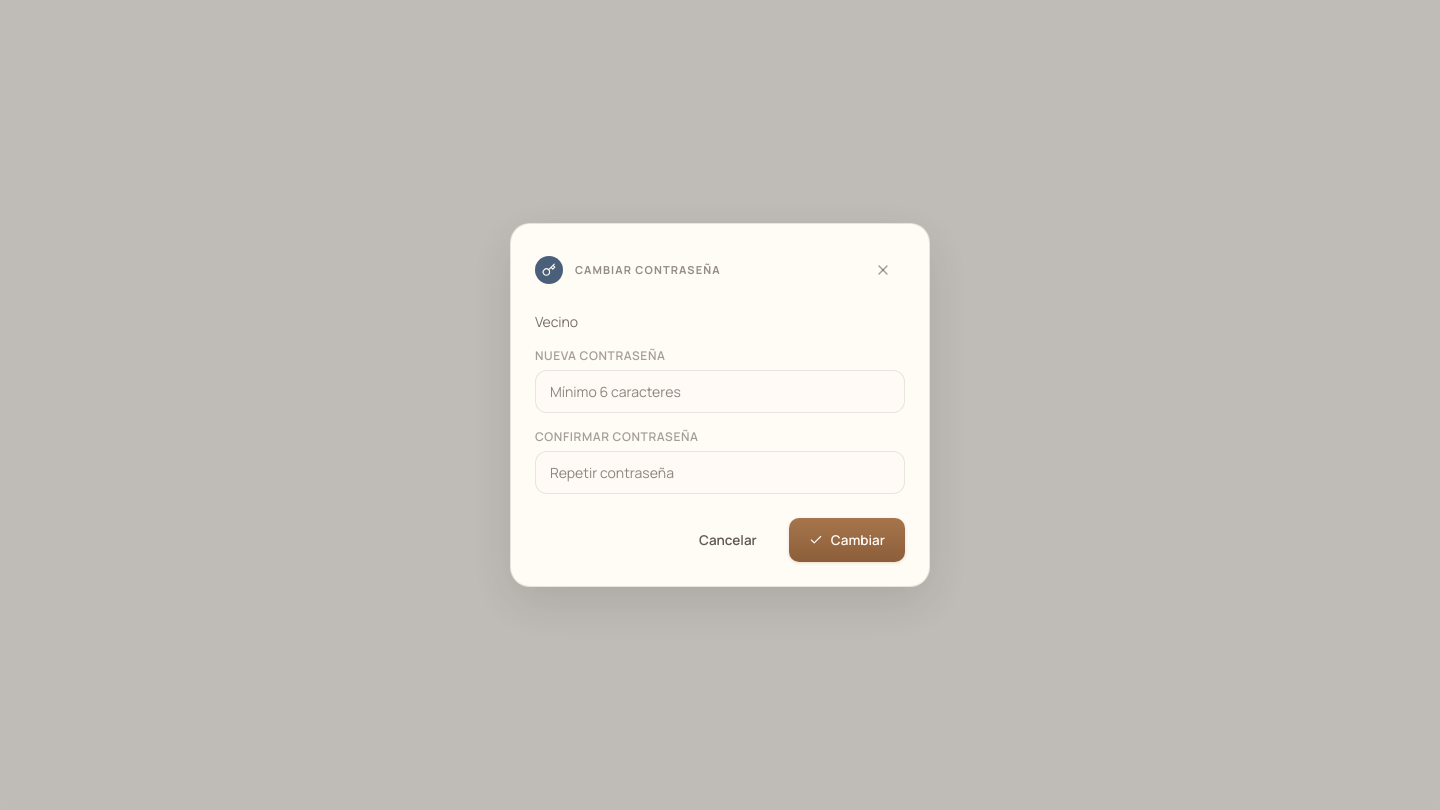
Test: ChangePasswordModal › shows API error
The width and height of the screenshot is (1440, 810).
Type "abcdef1" into the password field with placeholder "Mínimo 6 caracteres". click: (720, 392)
box: [535,370,905,413]
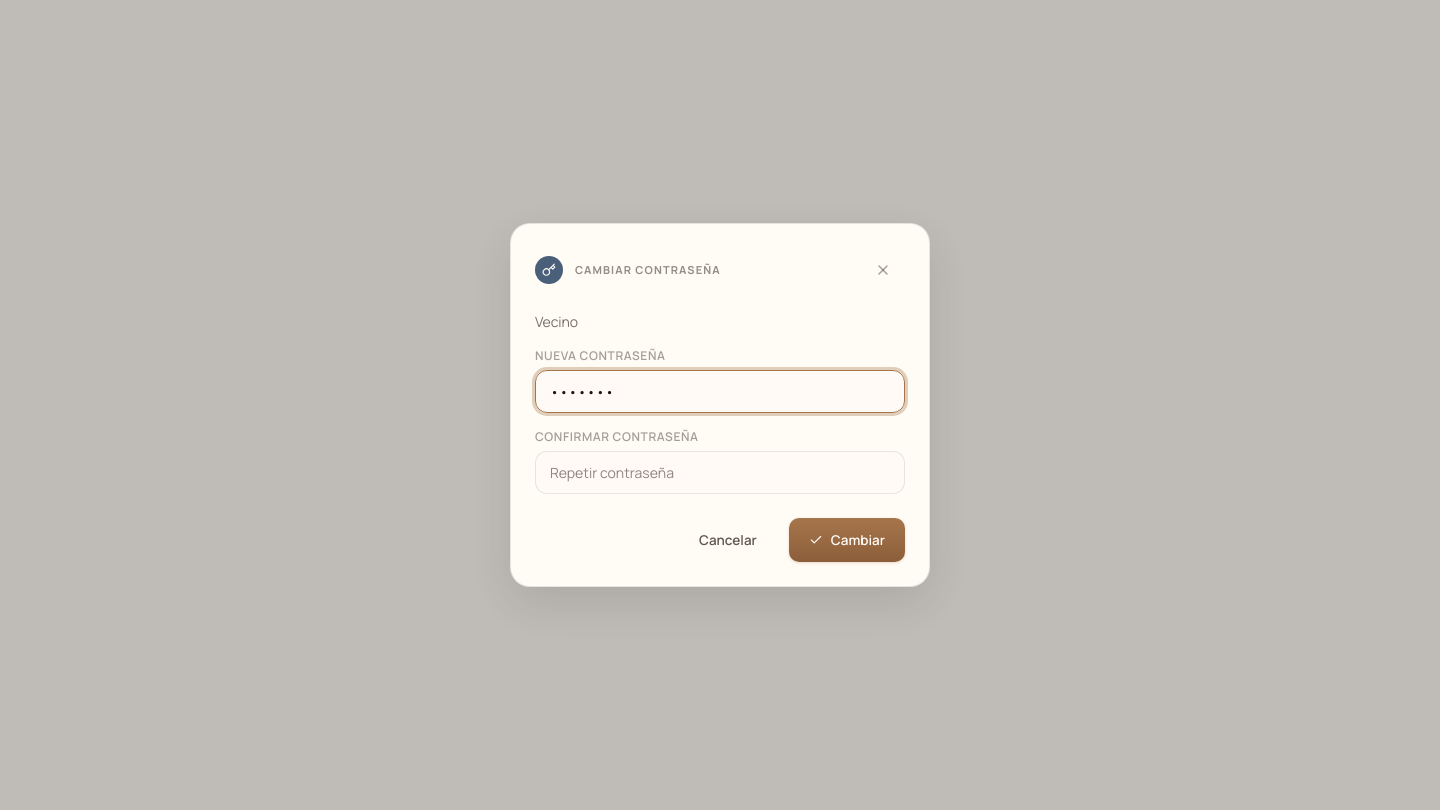
Type "abcdef1" into the password field with placeholder "Repetir contraseña". click: (720, 472)
box: [535,451,905,494]
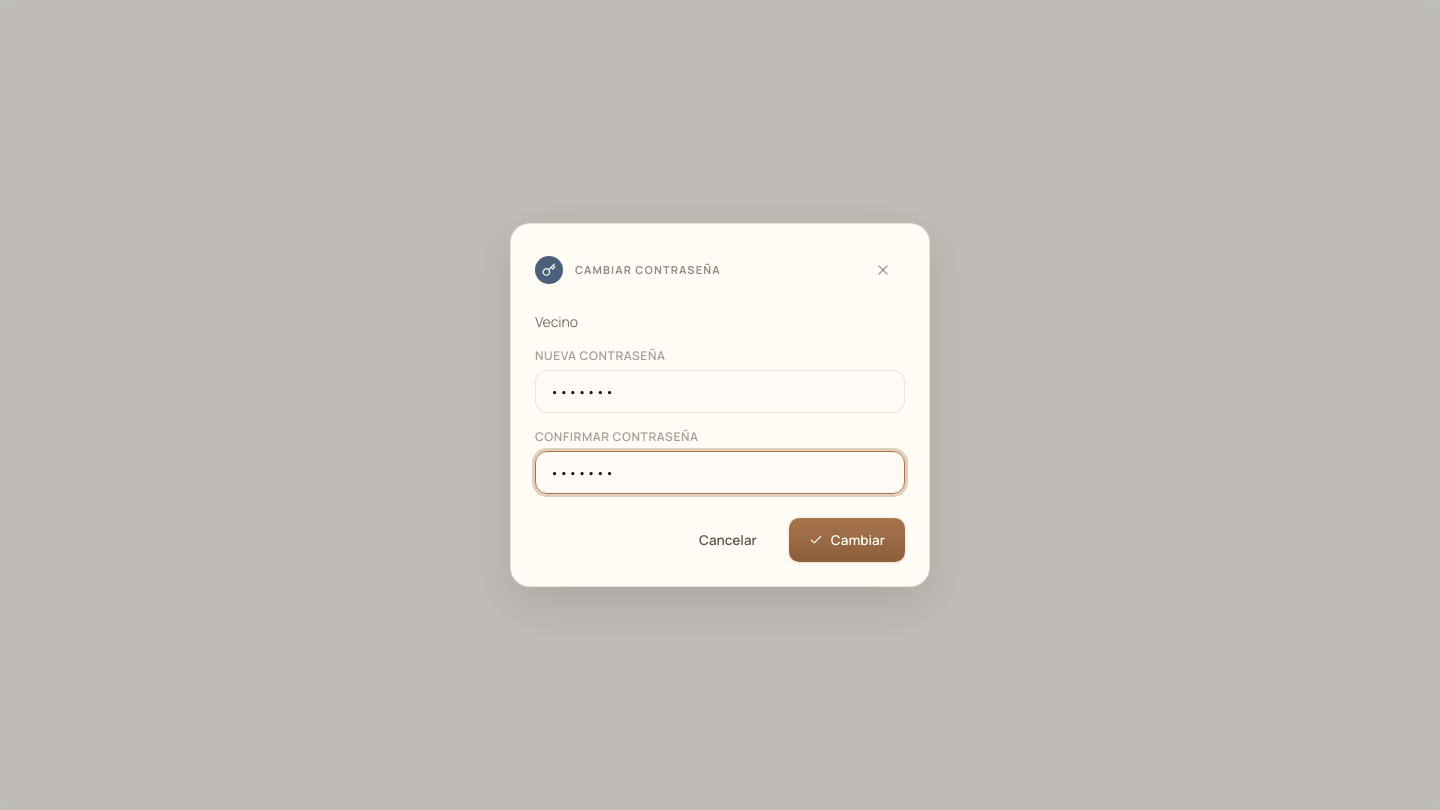
Click the button "Cambiar". click: (847, 540)
box: [789,518,905,562]
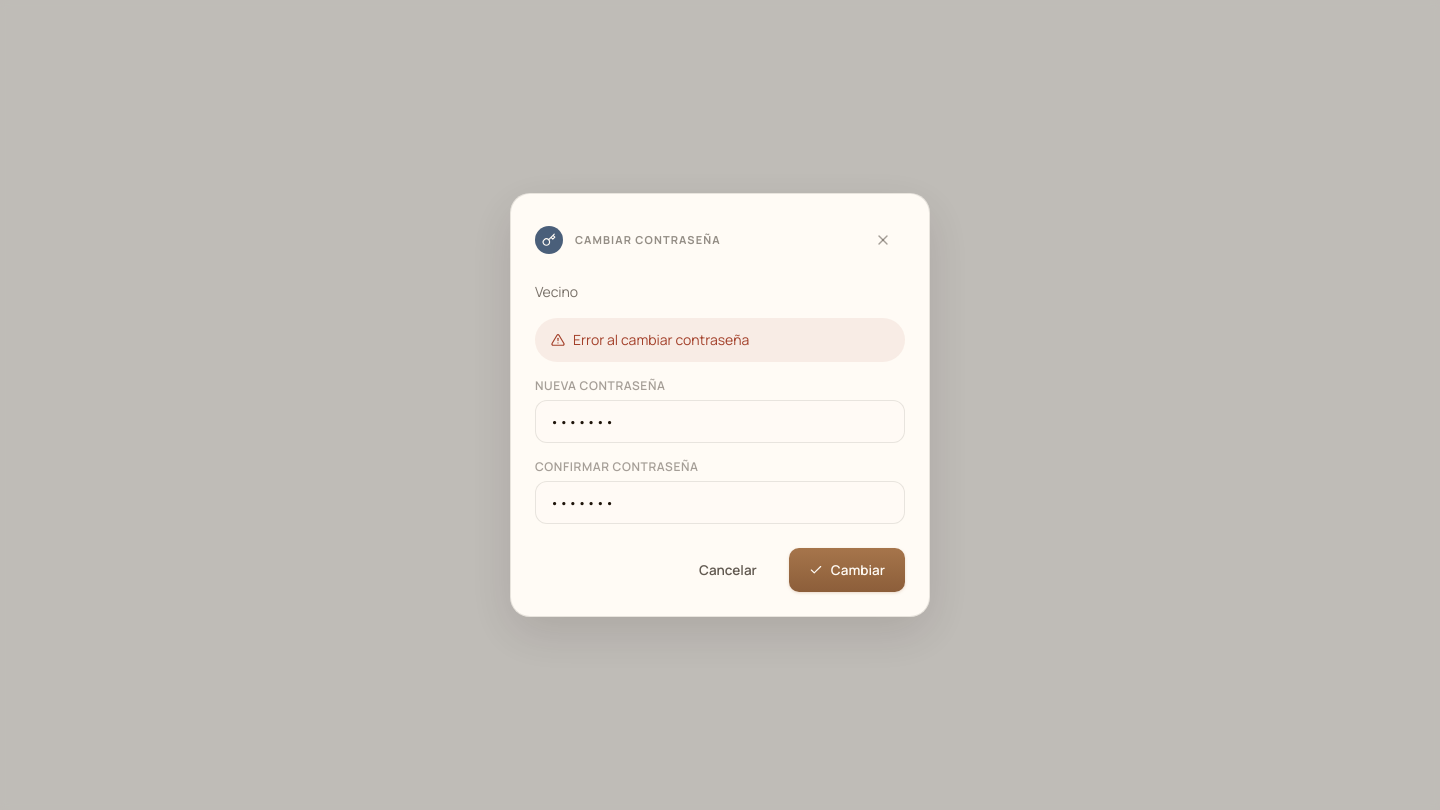
Now the text "Error al cambiar contraseña" is shown, box [535,318,905,362]
